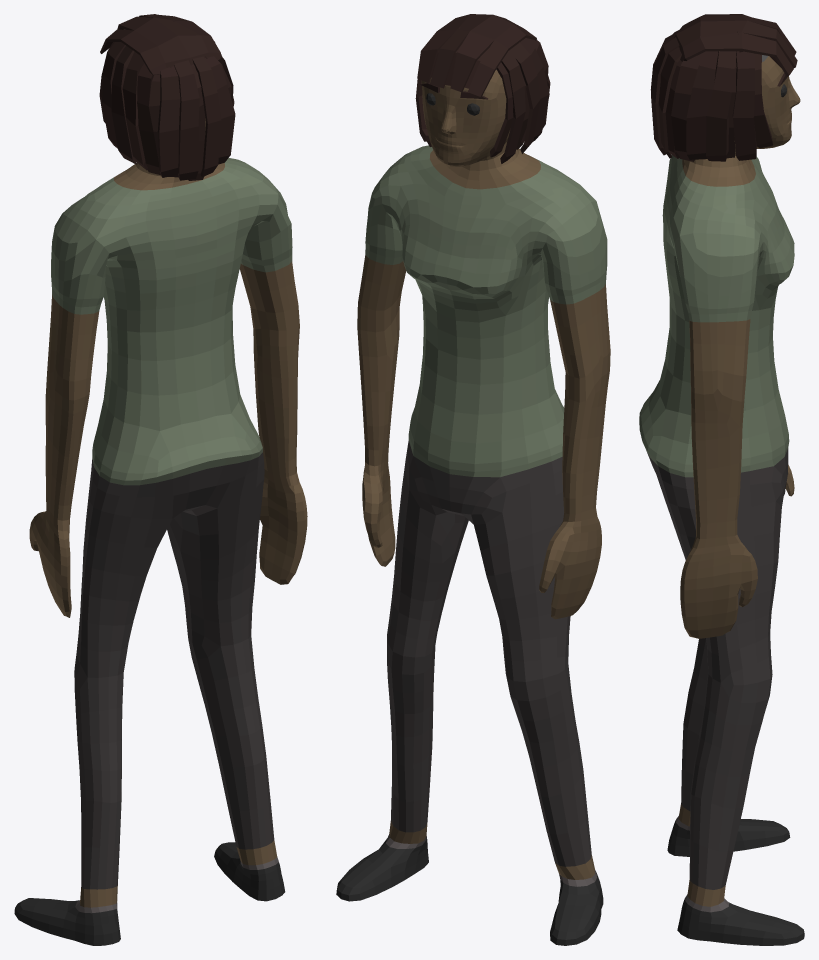
File: Smooth_Female_Casual.glb
3 renders of one model, left to right at view 1: azimuth 30°, elevation 25°; view 2: azimuth 150°, elevation 25°; view 3: azimuth 270°, elevation 25°, orthographic.
Parts seen in each view (by area): view 1: Smooth_Female_Casual; view 2: Smooth_Female_Casual; view 3: Smooth_Female_Casual.
Boxes of the visible parts, x1=… form: Smooth_Female_Casual: x1=14, y1=14, x2=307, y2=945; Smooth_Female_Casual: x1=336, y1=14, x2=610, y2=945; Smooth_Female_Casual: x1=639, y1=14, x2=804, y2=945.
Bounding box in the file's own units: 1.37 × 4.62 × 0.7967.
